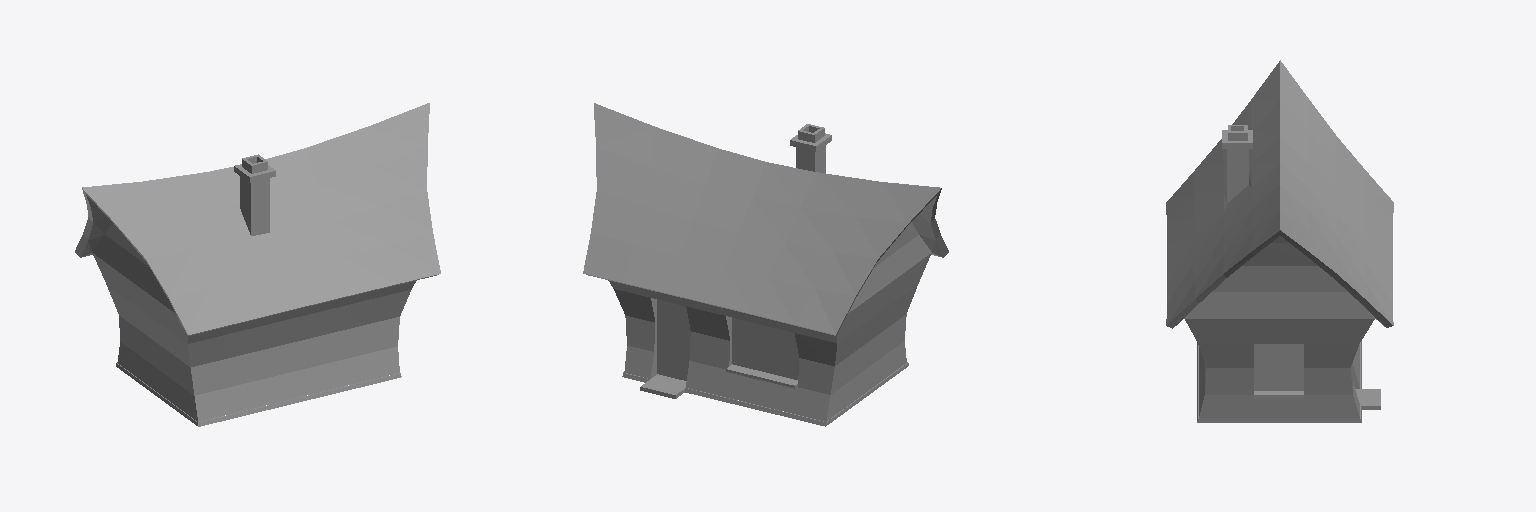
The model's file is house.obj.
The picture shows the model from 3 angles: view 1: azimuth 30°, elevation 25°; view 2: azimuth 150°, elevation 25°; view 3: azimuth 270°, elevation 25°; orthographic projection.
Visible parts, largest first — view 1: House_Cube; view 2: House_Cube; view 3: House_Cube.
Boxes of the visible parts, box(x1,y1,x2,y2) form: House_Cube: box(75, 103, 440, 426); House_Cube: box(583, 103, 948, 426); House_Cube: box(1166, 60, 1393, 422).
Bounding box in the file's own units: 7.69 × 4.92 × 4.35.